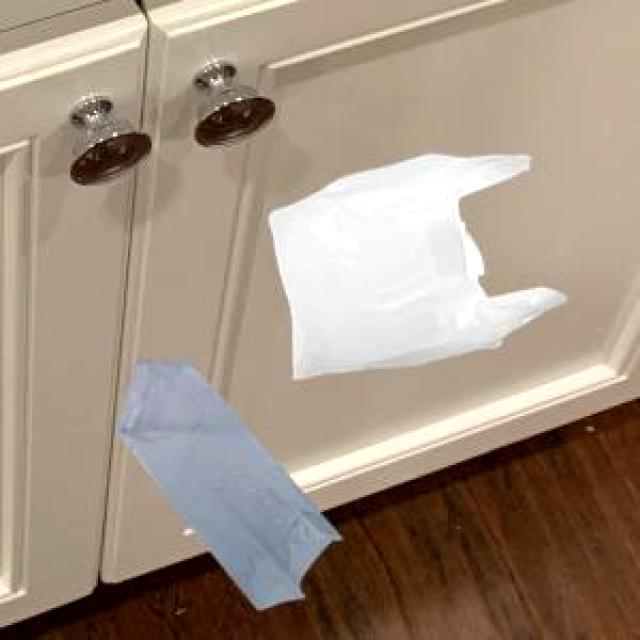Plastic_Bag: (266, 150, 564, 377), (114, 357, 338, 607)
